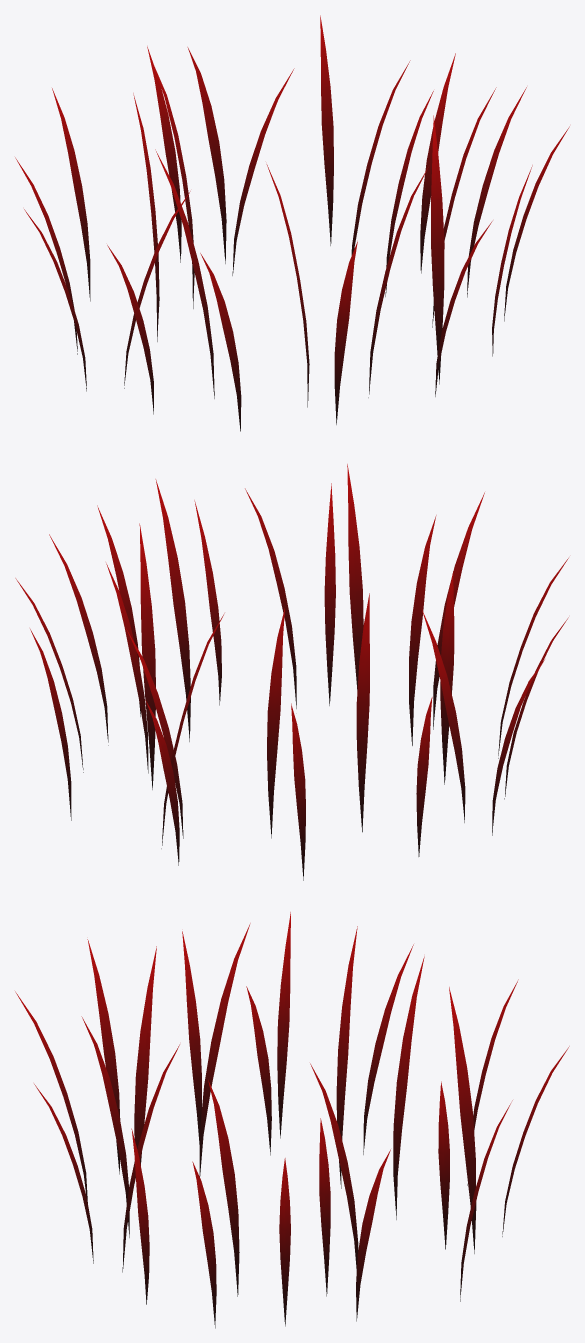
Rendered from Grass_1_LOD2.fbx.
3 renders of one model, top to bottom at view 1: azimuth 30°, elevation 25°; view 2: azimuth 150°, elevation 25°; view 3: azimuth 270°, elevation 25°, orthographic.
Visible parts, largest first — view 1: Grass.002; view 2: Grass.002; view 3: Grass.002.
Part boxes in pixels (left/top/right/bottom): Grass.002: left=15, top=15, right=569, bottom=431; Grass.002: left=15, top=464, right=568, bottom=880; Grass.002: left=15, top=912, right=569, bottom=1328.
Size of the model in its own units: 0.9924 by 0.4799 by 0.9452.
